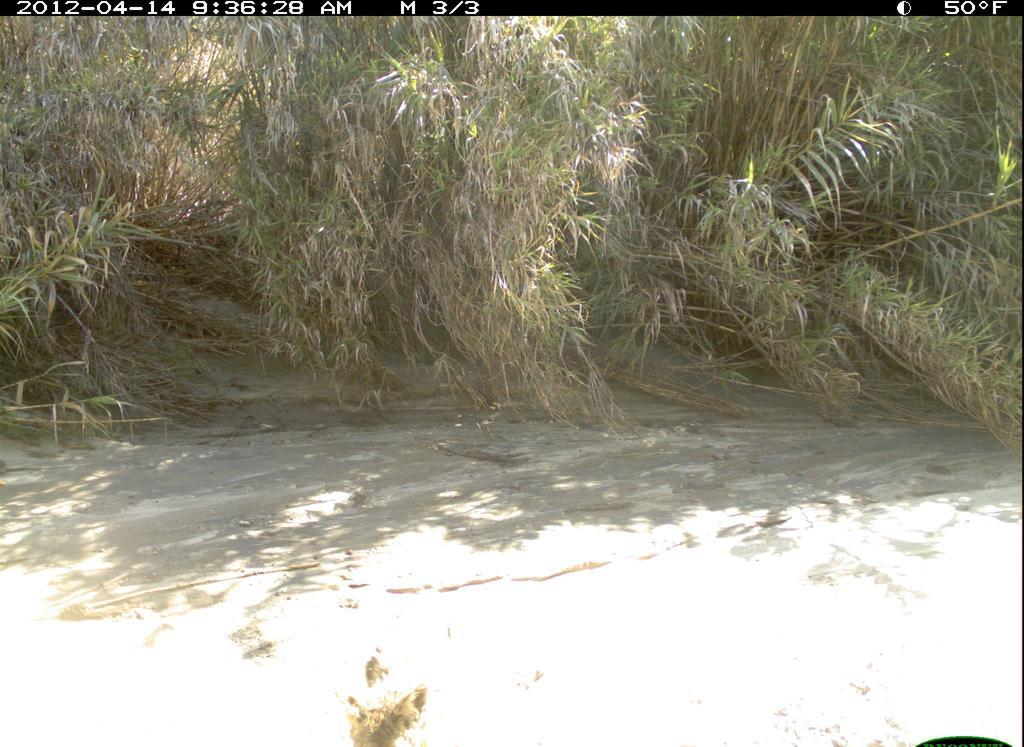coyote: (310, 612, 463, 747)
